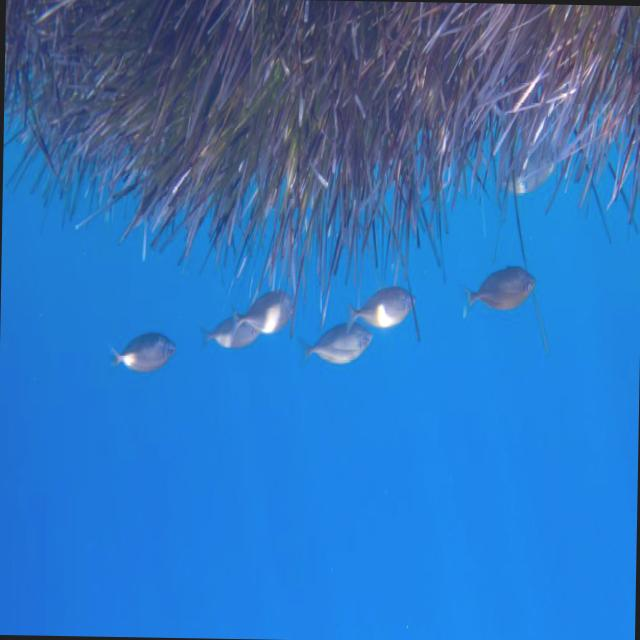Sokar Baligi: (452, 250, 544, 338), (100, 321, 186, 396)
